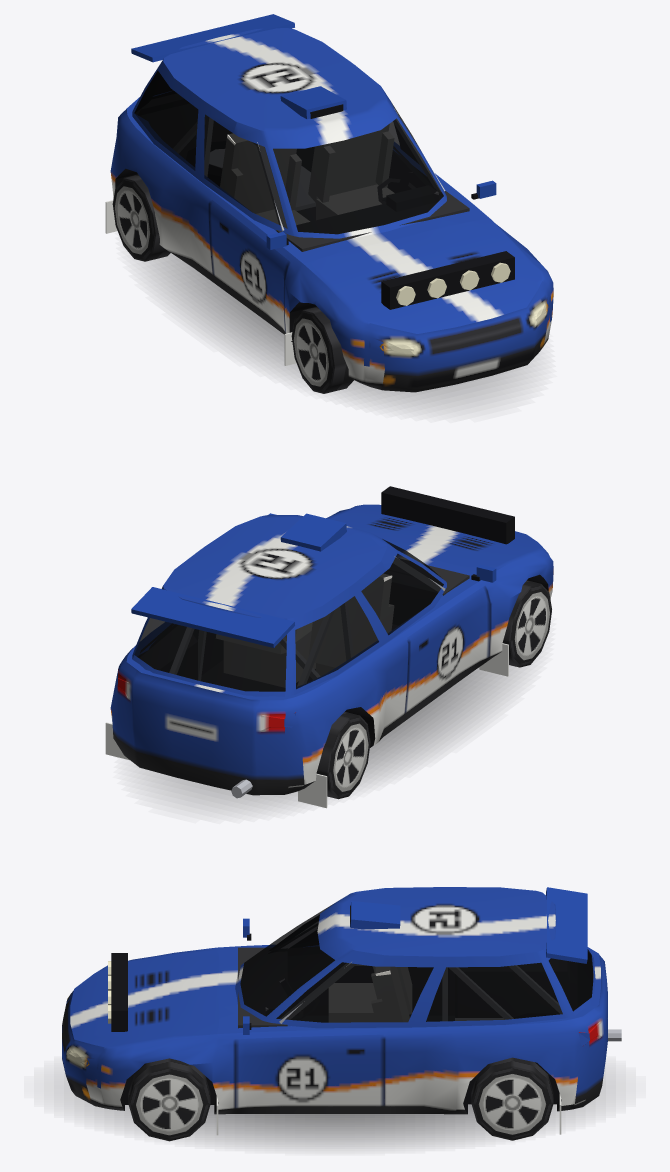
File: centelha.glb
The picture shows the model from 3 angles, top to bottom: view 1: azimuth 30°, elevation 25°; view 2: azimuth 150°, elevation 25°; view 3: azimuth 270°, elevation 25°; orthographic projection. The views are drawn at different scales.
Parts seen in each view (by area): view 1: Carroceria, Interior, Capo_malha, Porta_D_malha, Sombra, Roda_DD, Roda_TD, Tampa_malha, Porta_E_malha, Farol; view 2: Carroceria, Tampa_malha, Interior, Capo_malha, Porta_D_malha, Sombra, Roda_TD, Roda_DD; view 3: Carroceria, Interior, Porta_E_malha, Capo_malha, Sombra, Roda_TE, Roda_DE, Tampa_malha, Porta_D_malha.
Part boxes in pixels (left/top/right/bottom): Carroceria: left=105, top=28, right=553, bottom=392; Interior: left=135, top=94, right=469, bottom=251; Capo_malha: left=309, top=219, right=543, bottom=333; Porta_D_malha: left=209, top=122, right=293, bottom=332; Sombra: left=147, top=253, right=530, bottom=408; Roda_DD: left=291, top=307, right=353, bottom=393; Roda_TD: left=112, top=174, right=170, bottom=261; Tampa_malha: left=131, top=14, right=294, bottom=112; Porta_E_malha: left=382, top=88, right=496, bottom=199; Farol: left=379, top=303, right=548, bottom=355; Carroceria: left=105, top=504, right=553, bottom=808; Tampa_malha: left=131, top=587, right=294, bottom=774; Interior: left=137, top=556, right=469, bottom=690; Capo_malha: left=331, top=486, right=542, bottom=571; Porta_D_malha: left=381, top=546, right=496, bottom=712; Sombra: left=143, top=665, right=522, bottom=809; Roda_TD: left=316, top=712, right=370, bottom=799; Roda_DD: left=502, top=580, right=551, bottom=667; Carroceria: left=62, top=887, right=621, bottom=1135; Interior: left=238, top=921, right=592, bottom=1028; Porta_E_malha: left=235, top=950, right=383, bottom=1108; Capo_malha: left=75, top=950, right=218, bottom=1048; Sombra: left=64, top=1074, right=605, bottom=1146; Roda_TE: left=471, top=1057, right=553, bottom=1140; Roda_DE: left=128, top=1058, right=210, bottom=1141; Tampa_malha: left=543, top=887, right=607, bottom=1076; Porta_D_malha: left=243, top=915, right=319, bottom=950.
Size of the model in its own units: 2.44 by 1.45 by 4.68.
Materials: 14 (5 with a texture image).
